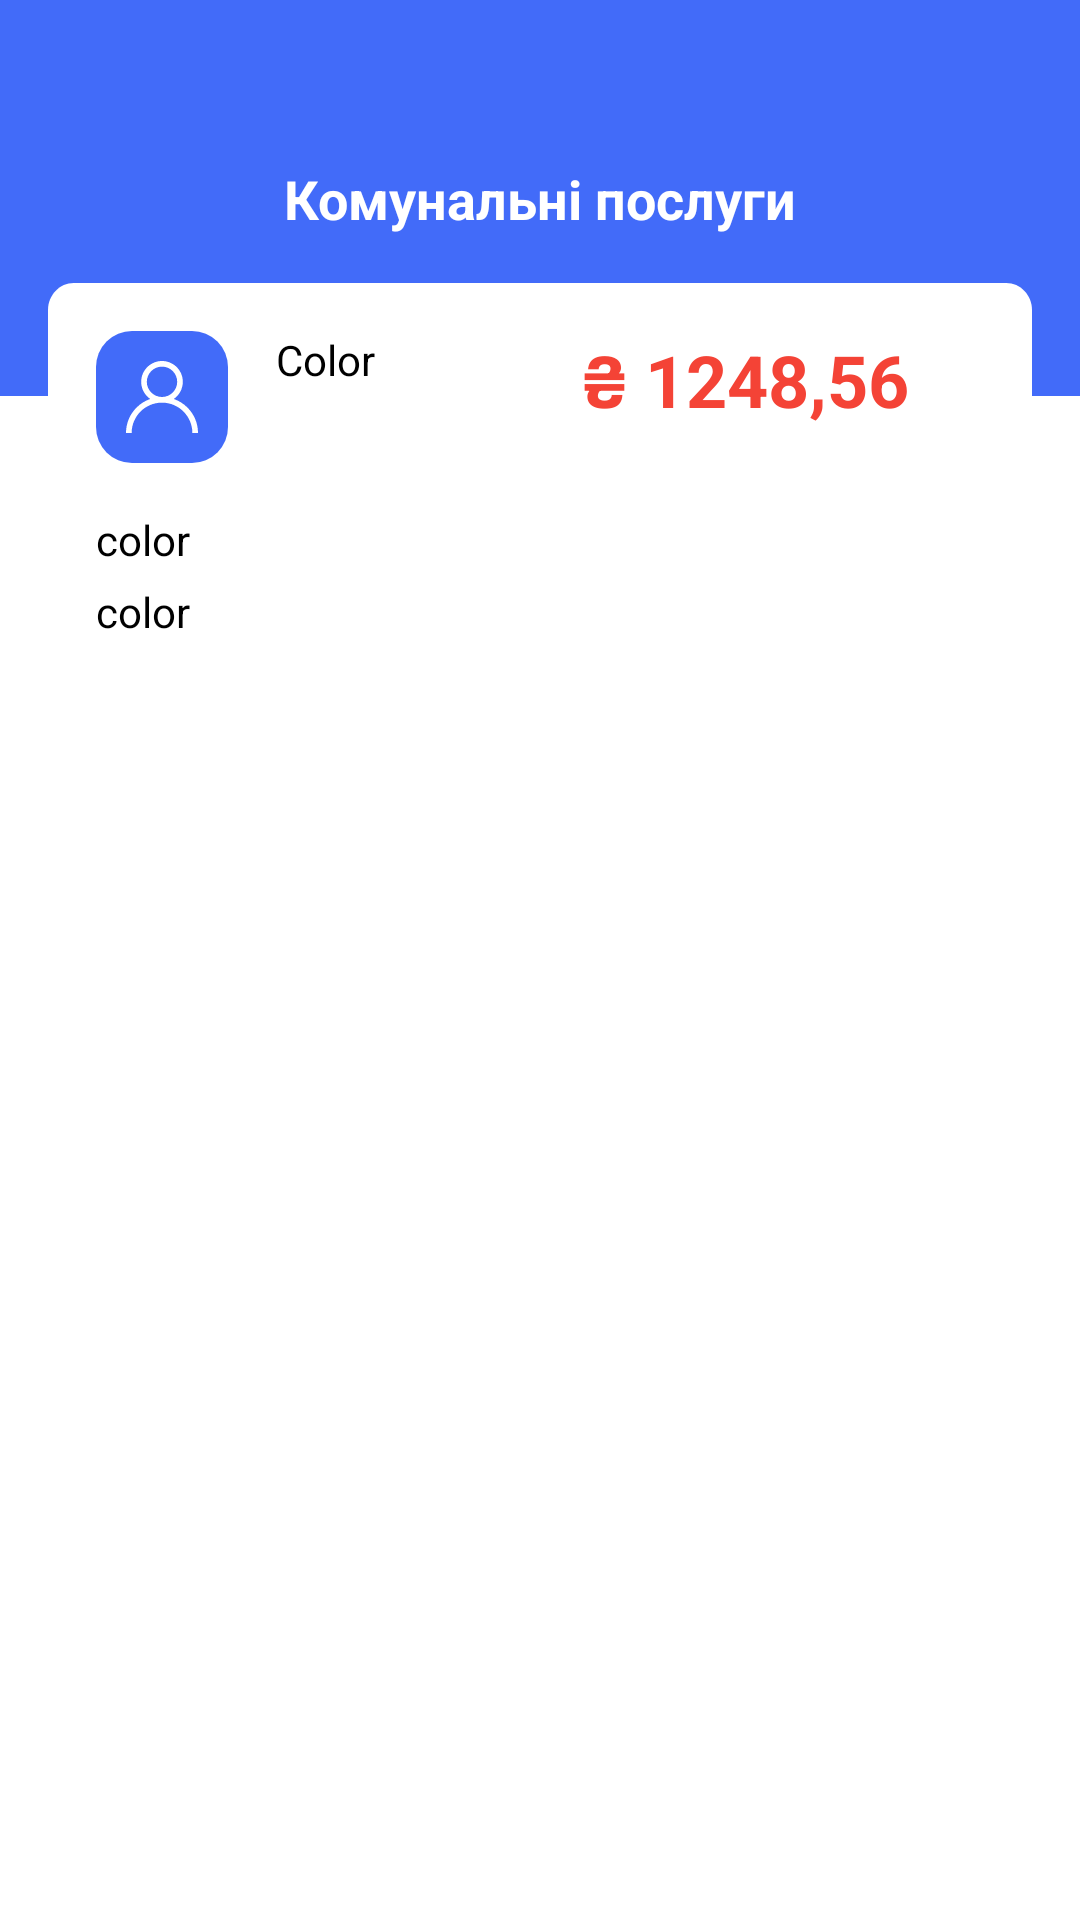

Icons on this 1080px×1920px Android screen, each with its box as (x1, y1, x2, y2):
user: (96, 331, 228, 463)
